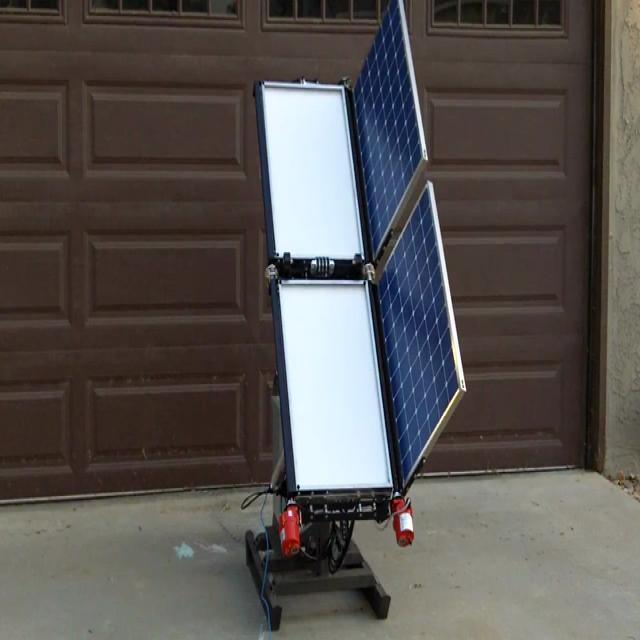Normal Solar Panel: (380, 183, 466, 489), (355, 0, 428, 257)
